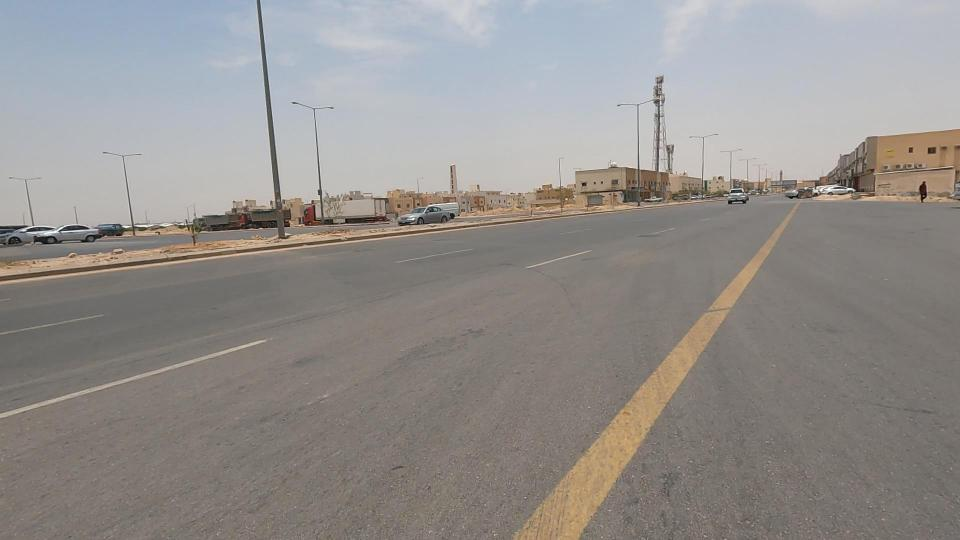CLUTTER_SIDEWALK: (270, 207, 441, 257), (154, 219, 330, 267), (0, 242, 205, 278)
